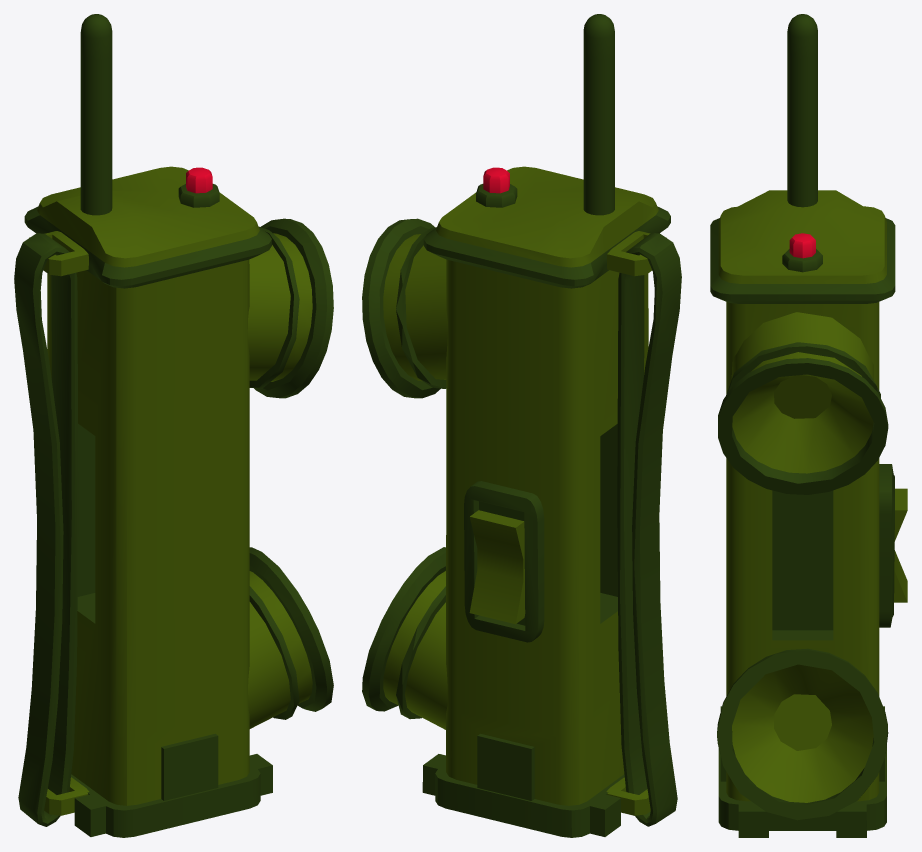
File: walkie.fbx
3 renders of one model, left to right at view 1: azimuth 30°, elevation 25°; view 2: azimuth 150°, elevation 25°; view 3: azimuth 270°, elevation 25°, orthographic. The views are drawn at different scales.
Visible parts, largest first — view 1: Cube, BézierCurve, Cylinder, Cylinder.001, Cube.001, Cylinder.002, Cylinder.003; view 2: Cube, BézierCurve, Cylinder, Cube.002, Cylinder.001, Cube.003, Cube.001, Cylinder.002, Cylinder.003; view 3: Cube, Cylinder, Cylinder.001, Cube.002, Cube.003, Cylinder.002, Cylinder.003.
Boxes of the visible parts, x1,y1,x2,y2 form: Cube: (24,166,272,837); BézierCurve: (14,233,78,826); Cylinder: (247,218,333,728); Cylinder.001: (80,14,112,215); Cube.001: (29,231,89,815); Cylinder.002: (178,184,219,207); Cylinder.003: (186,167,212,193); Cube: (422,166,670,837); BézierCurve: (617,233,681,826); Cylinder: (362,218,447,729); Cube.002: (464,481,544,642); Cylinder.001: (583,14,614,215); Cube.003: (469,510,525,624); Cube.001: (606,231,666,815); Cylinder.002: (476,184,517,207); Cylinder.003: (483,167,509,193); Cube: (710,190,895,837); Cylinder: (717,312,888,820); Cylinder.001: (787,14,817,207); Cube.002: (879,464,894,627); Cube.003: (894,488,907,602); Cylinder.002: (782,249,822,272); Cylinder.003: (789,233,815,258).
Size of the model in its own units: 0.3061 by 0.8199 by 0.1937.
